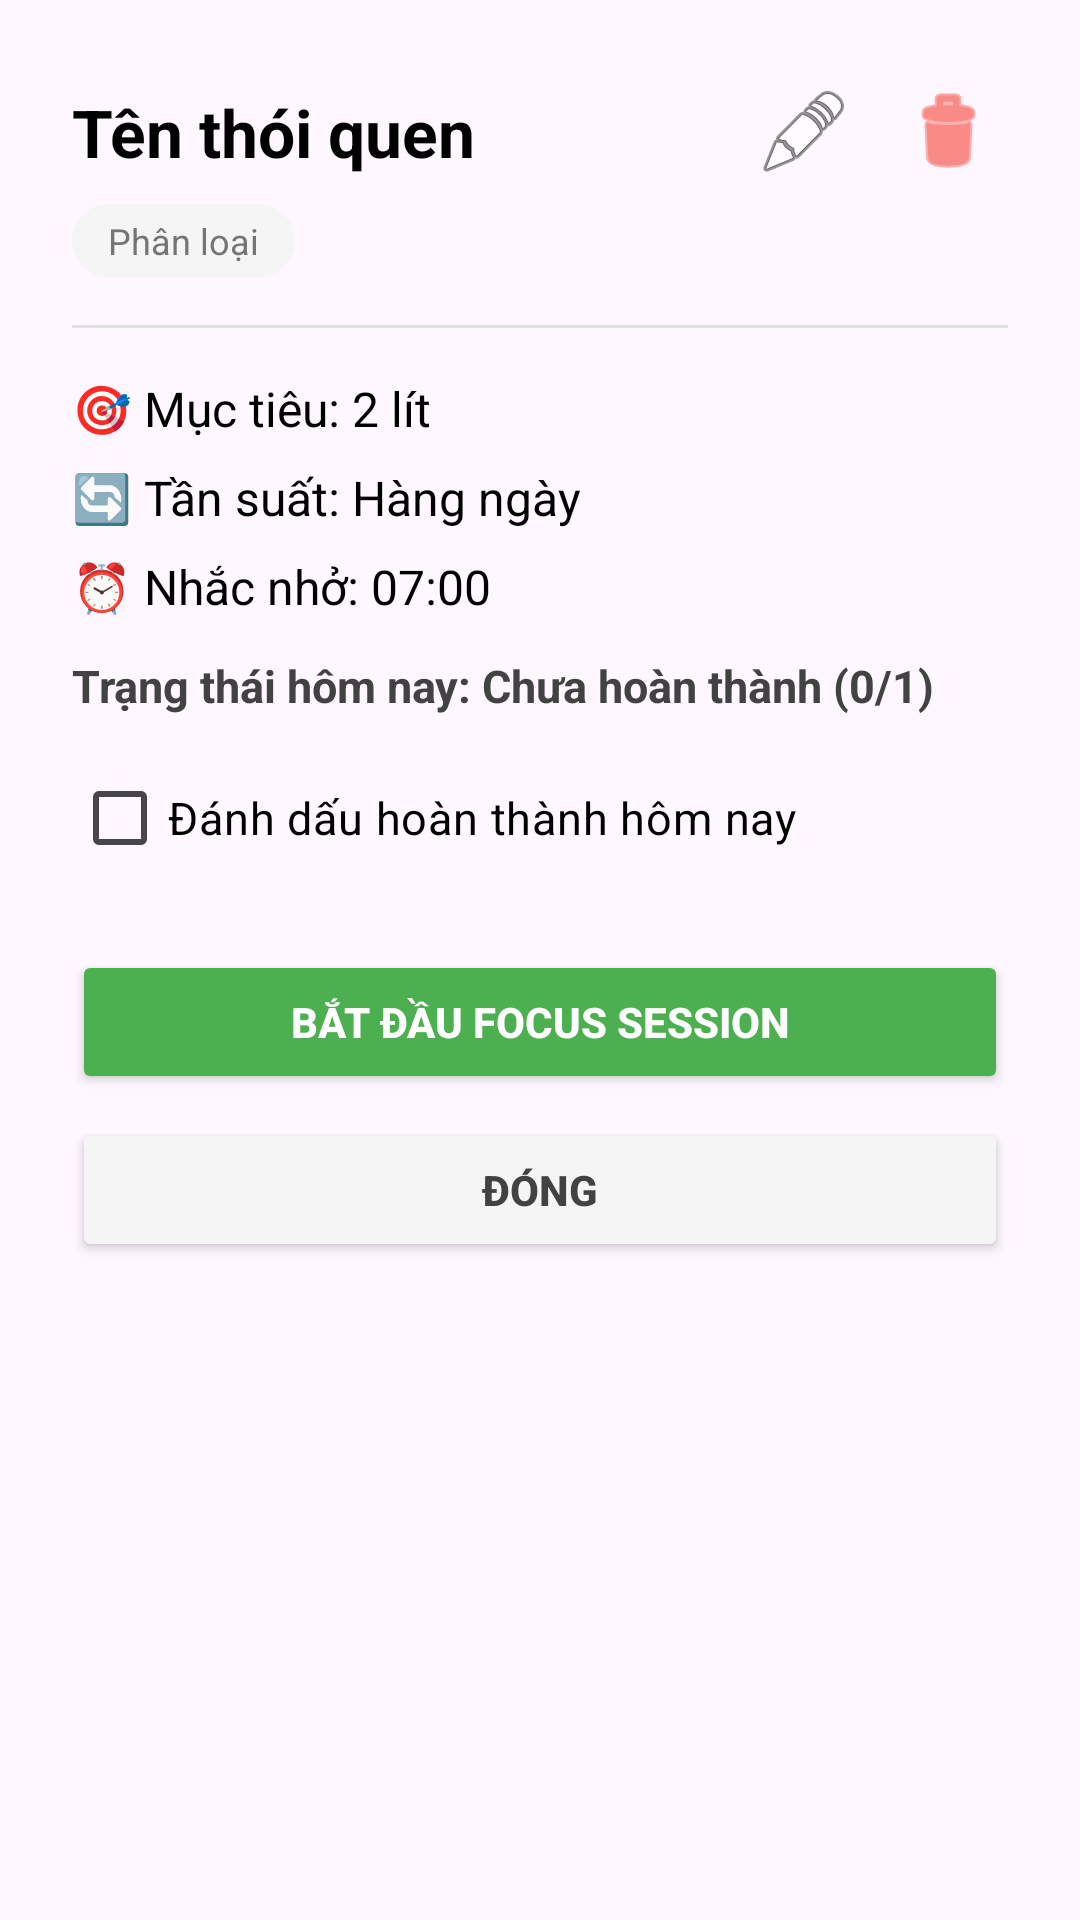

Icon bounding boxes for this 1080x1920 phone screenshot, format (x1, y1, x2, y2):
delete: (921, 93, 976, 168)
edit: (763, 91, 844, 172)
